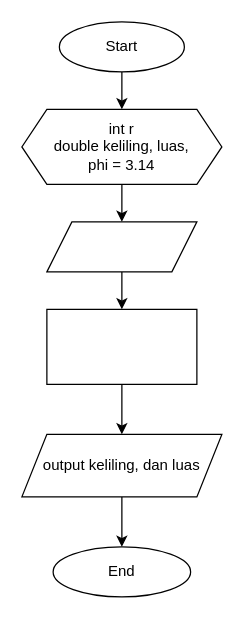
Some shapes in this 244 by 619 pixel diagram are drawn without their labels. The box of each missing label's shape, as (x1, y1, x2, y2) in pixels:
input r: (46, 221, 197, 272)
keliling = 2 * phi * r luas = phi * r * r: (46, 308, 197, 384)
